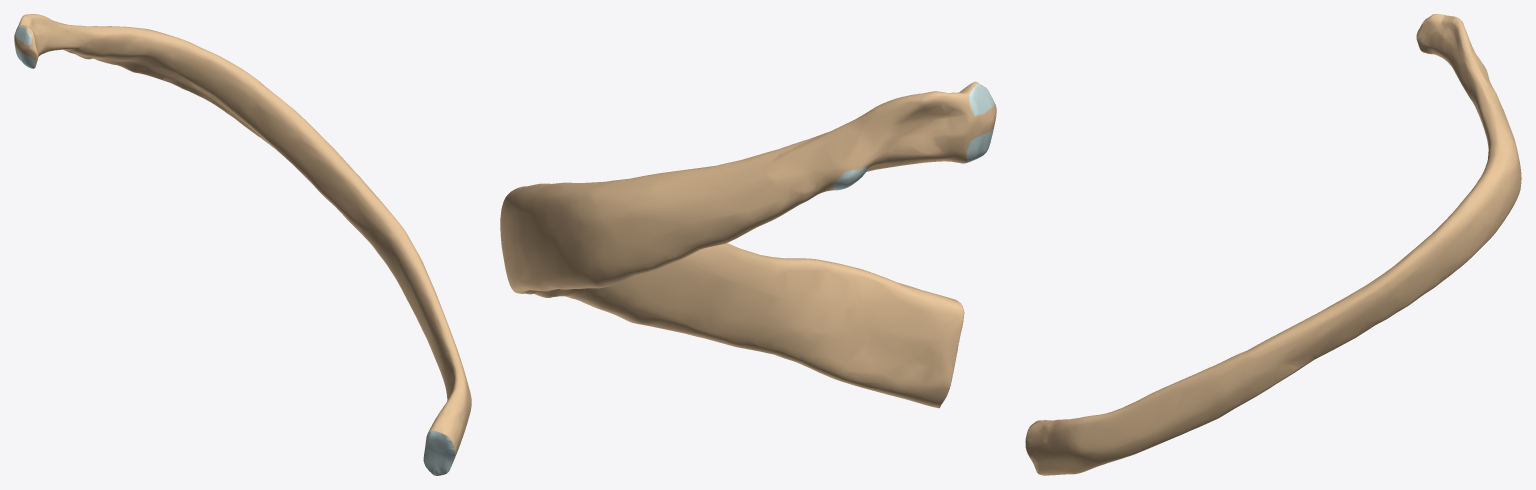
Rendered from 7th_rib.l_Generated_Mesh_From_X3D.882.glb.
3 views of the same model, side by side, from view 1: azimuth 30°, elevation 25°; view 2: azimuth 150°, elevation 25°; view 3: azimuth 270°, elevation 25° (orthographic). The views are drawn at different scales.
Parts seen in each view (by area): view 1: 7th_rib.l_Generated_Mesh_From_X3D.882; view 2: 7th_rib.l_Generated_Mesh_From_X3D.882; view 3: 7th_rib.l_Generated_Mesh_From_X3D.882.
Boxes of the visible parts, x1,y1,x2,y2 form: 7th_rib.l_Generated_Mesh_From_X3D.882: (14, 14, 471, 475); 7th_rib.l_Generated_Mesh_From_X3D.882: (500, 81, 996, 408); 7th_rib.l_Generated_Mesh_From_X3D.882: (1025, 14, 1521, 475).
Size of the model in its own units: 0.1252 by 0.1444 by 0.1816.
